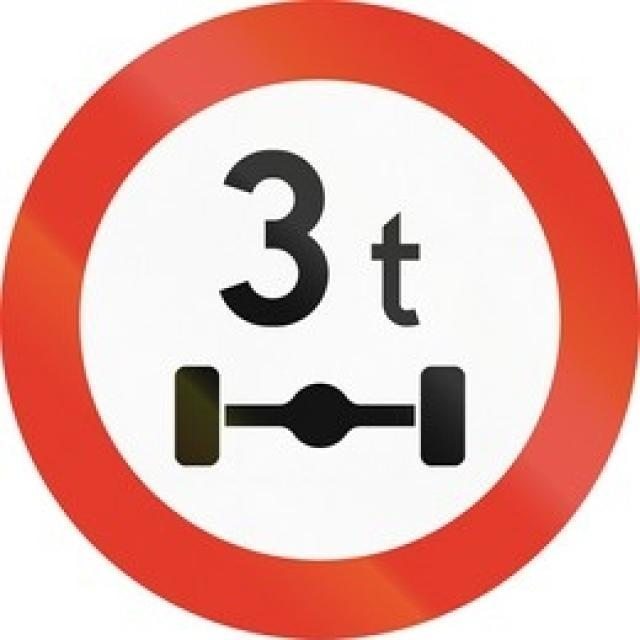axle load limit: (13, 11, 626, 626)
